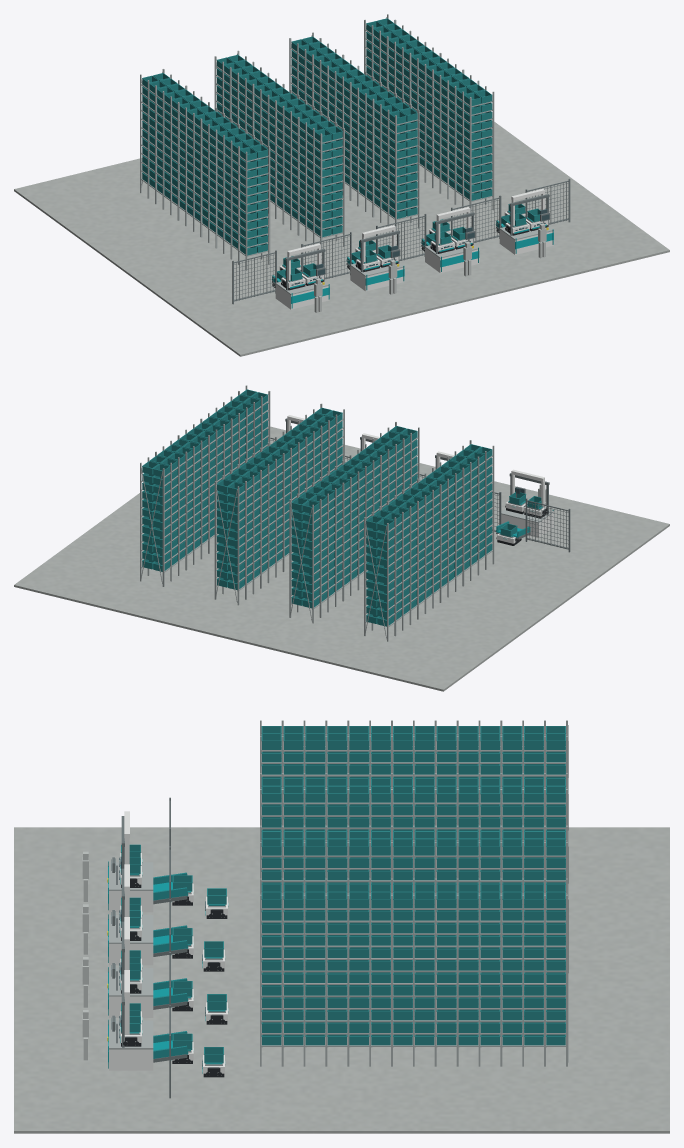
The picture shows the model from 3 angles, top to bottom: view 1: azimuth 30°, elevation 25°; view 2: azimuth 150°, elevation 25°; view 3: azimuth 270°, elevation 25°; orthographic projection. The views are drawn at different scales.
Visible parts, largest first — view 1: Warehouse floor, Dual robot presentation platform.001, Dual robot presentation platform.003, Dual robot presentation platform; view 2: Warehouse floor, Dual robot presentation platform; view 3: Warehouse floor, Dual robot presentation platform.003, Long rack support.021, Long rack support.069, Long rack support.086, Long rack support.094, Long rack support.071, Long rack support.088, Long rack support.045, Long rack support.047, Long rack support.090, Long rack support.092 (+7 smaller).
Part boxes in pixels (x1=…): Warehouse floor: x1=14, y1=119, x2=669, y2=356; Dual robot presentation platform.001: x1=350, y1=266, x2=404, y2=291; Dual robot presentation platform.003: x1=499, y1=229, x2=553, y2=254; Dual robot presentation platform: x1=275, y1=284, x2=329, y2=309; Warehouse floor: x1=14, y1=426, x2=669, y2=691; Dual robot presentation platform: x1=501, y1=512, x2=553, y2=537; Warehouse floor: x1=14, y1=827, x2=669, y2=1133; Dual robot presentation platform.003: x1=109, y1=1049, x2=153, y2=1070; Long rack support.021: x1=261, y1=774, x2=565, y2=776; Long rack support.069: x1=261, y1=880, x2=565, y2=882; Long rack support.086: x1=261, y1=1020, x2=565, y2=1022; Long rack support.094: x1=261, y1=920, x2=565, y2=922; Long rack support.071: x1=261, y1=855, x2=565, y2=857; Long rack support.088: x1=261, y1=995, x2=565, y2=997; Long rack support.045: x1=261, y1=827, x2=565, y2=829; Long rack support.047: x1=261, y1=802, x2=565, y2=804; Long rack support.090: x1=261, y1=970, x2=565, y2=972; Long rack support.092: x1=261, y1=945, x2=565, y2=947.
Bounding box in the file's own units: 23 × 6.15 × 21.
12 materials, 1 textured.
